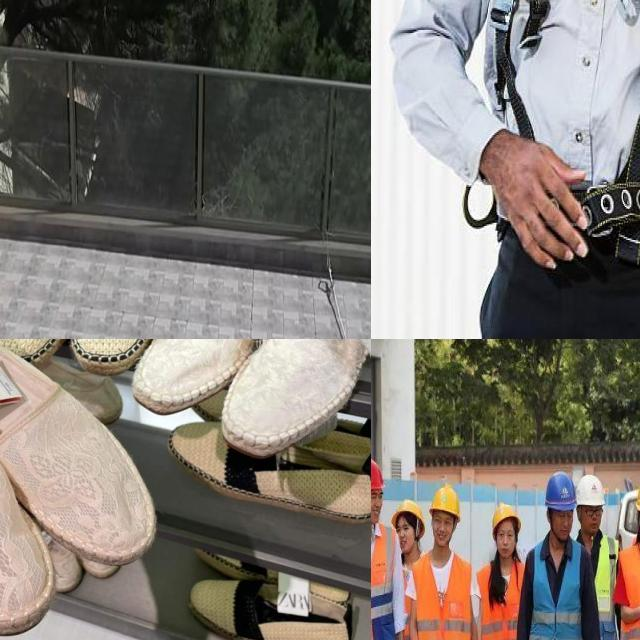Harness: (489, 0, 535, 140), (319, 255, 348, 339)
Sandals: (0, 339, 174, 640), (109, 339, 371, 458)
glasses: (583, 502, 605, 520)
hand_noglove: (635, 599, 640, 627)
head_helmet: (546, 473, 577, 512), (575, 472, 605, 511), (429, 484, 461, 520), (391, 501, 424, 532), (491, 506, 522, 534), (371, 458, 384, 490)
person: (529, 471, 586, 640), (416, 482, 473, 640), (576, 465, 621, 640), (481, 494, 526, 640), (389, 500, 434, 640), (371, 455, 405, 640)
vest: (413, 555, 478, 640), (533, 547, 590, 640), (583, 533, 620, 640), (479, 563, 529, 640), (371, 533, 405, 640), (398, 552, 417, 640), (623, 548, 640, 640)
